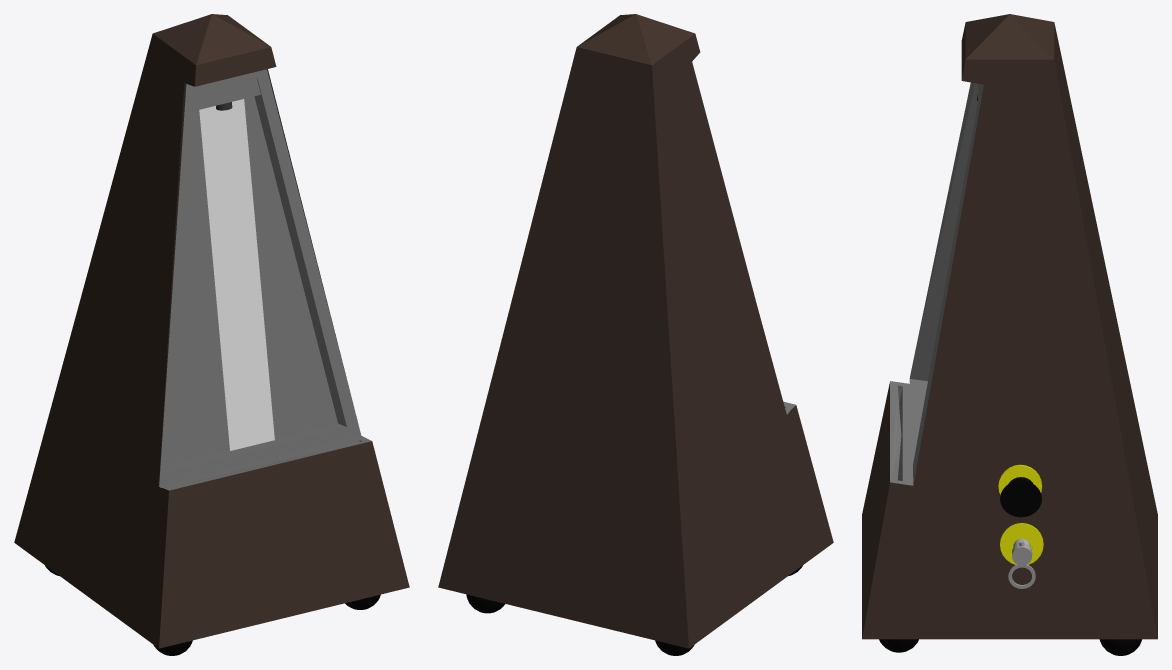
The model's file is metronome.fbx.
The picture shows the model from 3 angles, left to right: view 1: azimuth 30°, elevation 25°; view 2: azimuth 150°, elevation 25°; view 3: azimuth 270°, elevation 25°; orthographic projection. The views are drawn at different scales.
Visible parts, largest first — view 1: polySurface1; view 2: polySurface1; view 3: polySurface1.
Part boxes in pixels (left/top/right/bottom): polySurface1: left=14, top=14, right=409, bottom=655; polySurface1: left=438, top=14, right=833, bottom=655; polySurface1: left=862, top=14, right=1157, bottom=655.
Size of the model in its own units: 5.21 by 11.06 by 5.
